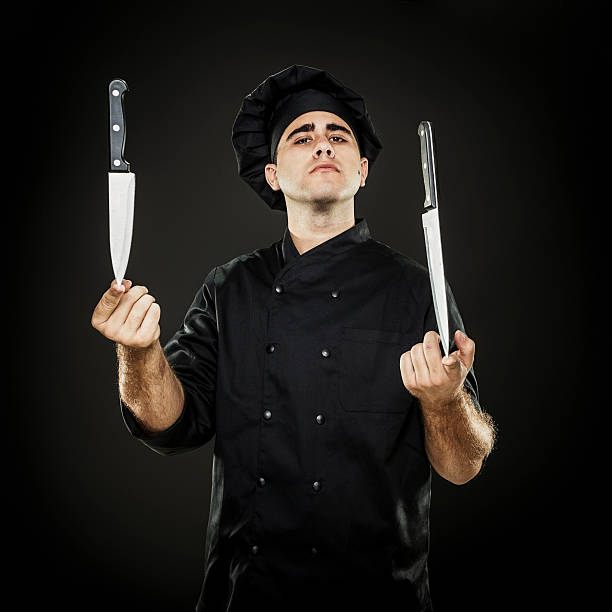knife: (417, 120, 449, 358), (108, 77, 137, 285)
